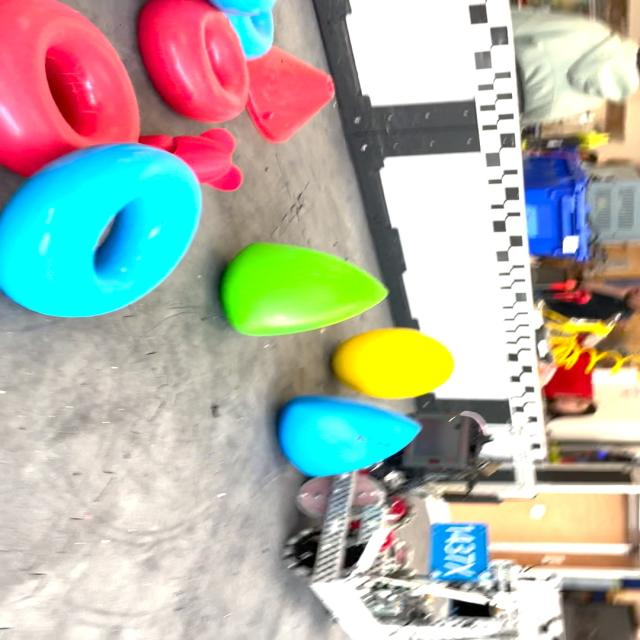Blue-Ring: (0, 144, 202, 318)
Red-Ring: (0, 0, 140, 176), (138, 0, 249, 122), (191, 60, 196, 63)
